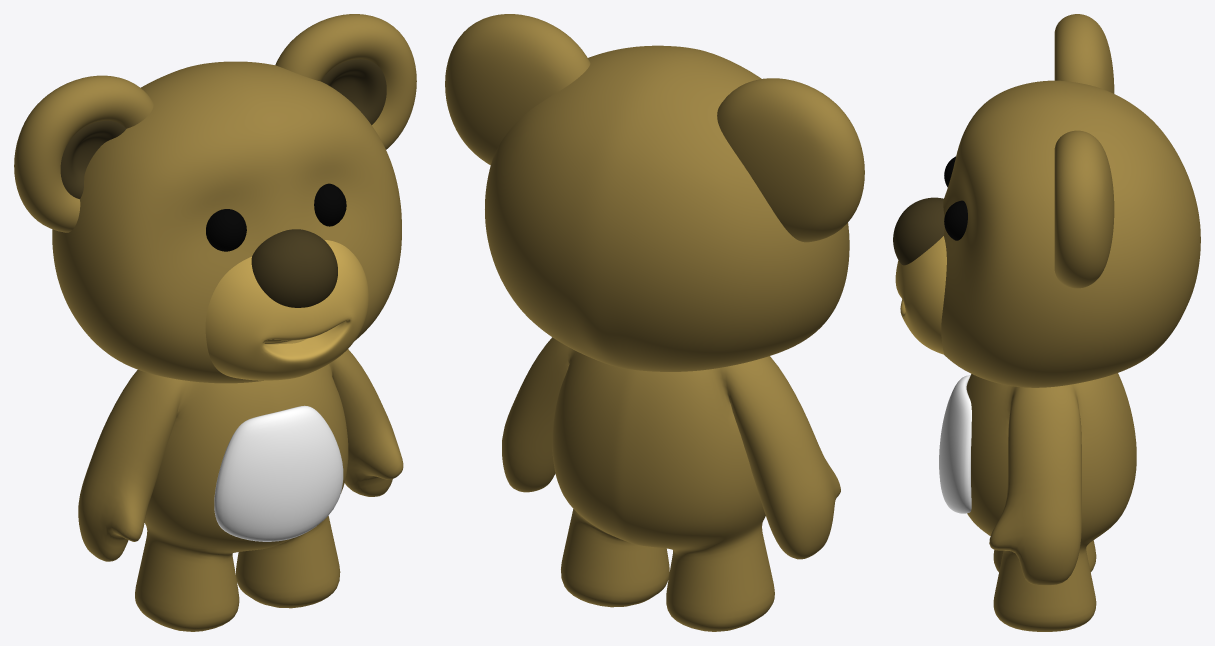
Rendered from Bear_3d.glb.
The picture shows the model from 3 angles, left to right: view 1: azimuth 30°, elevation 25°; view 2: azimuth 150°, elevation 25°; view 3: azimuth 270°, elevation 25°; orthographic projection. The views are drawn at different scales.
Parts seen in each view (by area): view 1: Cube, Cube.003, Cube.002, Cube.004, Cube.024, Cube.001, Cube.005, Sphere.002; view 2: Cube, Cube.003, Cube.002; view 3: Cube, Cube.003, Cube.002, Cube.024, Cube.004, Cube.001, Sphere.002.
Part boxes in pixels (x1,y1,x2,y2): Cube: (52, 61, 401, 383); Cube.003: (78, 349, 403, 631); Cube.002: (14, 14, 416, 232); Cube.004: (214, 405, 343, 541); Cube.024: (205, 240, 368, 380); Cube.001: (251, 229, 337, 307); Cube.005: (60, 59, 386, 199); Sphere.002: (206, 183, 346, 251); Cube: (485, 45, 849, 371); Cube.003: (502, 337, 840, 631); Cube.002: (445, 14, 864, 242); Cube: (941, 80, 1200, 387); Cube.003: (966, 373, 1136, 631); Cube.002: (1054, 14, 1114, 288); Cube.024: (895, 236, 946, 354); Cube.004: (939, 375, 971, 513); Cube.001: (893, 197, 944, 265); Sphere.002: (944, 156, 967, 240).
Size of the model in its own units: 4.43 by 5.86 by 3.16.
